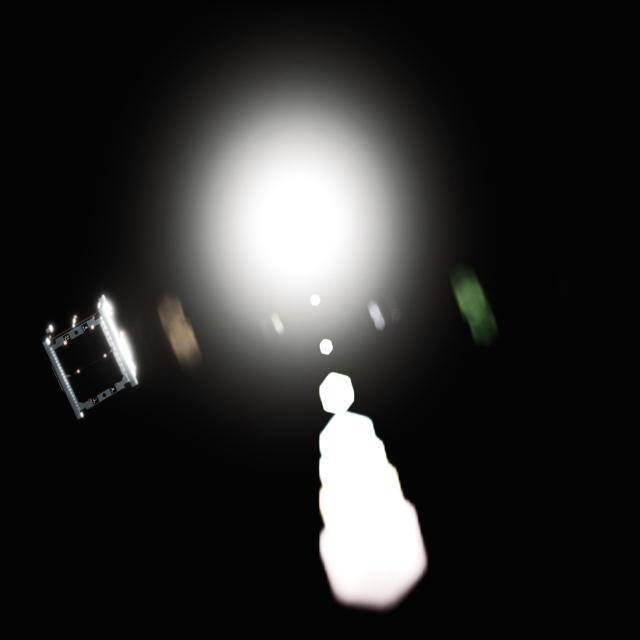satellite: (40, 291, 151, 425)
